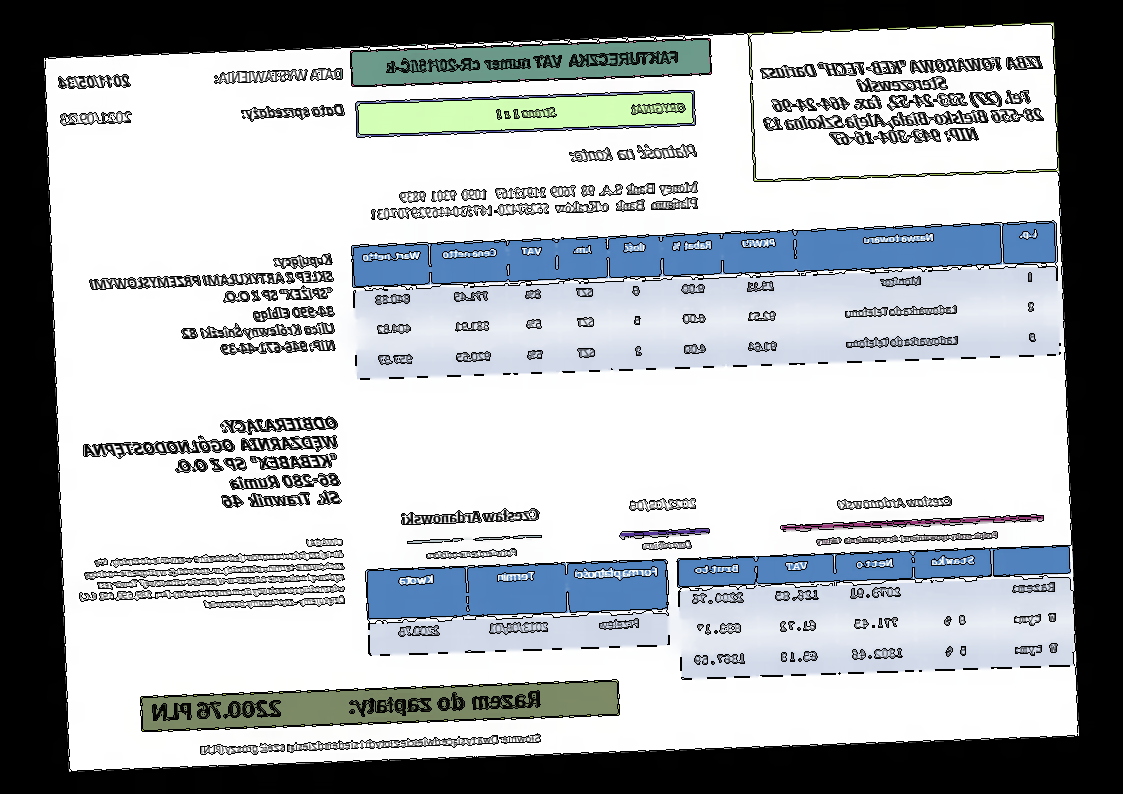Table: (349, 218, 1062, 382), (676, 543, 1076, 681), (364, 556, 672, 658)
TextBox: (758, 50, 1049, 152), (84, 249, 339, 363), (79, 414, 343, 516), (75, 533, 348, 617), (149, 687, 544, 727), (366, 177, 702, 223), (198, 730, 544, 759), (383, 46, 680, 76), (494, 97, 689, 123), (813, 528, 1002, 548), (398, 504, 543, 528), (567, 140, 700, 165), (213, 63, 346, 87), (835, 490, 954, 513), (239, 100, 346, 124), (424, 545, 521, 562), (55, 71, 132, 92), (58, 108, 135, 128), (628, 495, 698, 514), (640, 537, 696, 552)
